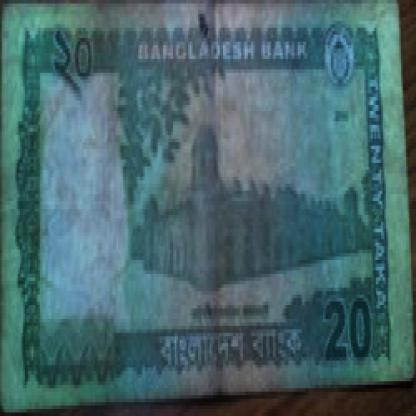Twenty: (321, 278, 376, 374), (37, 21, 103, 100)
